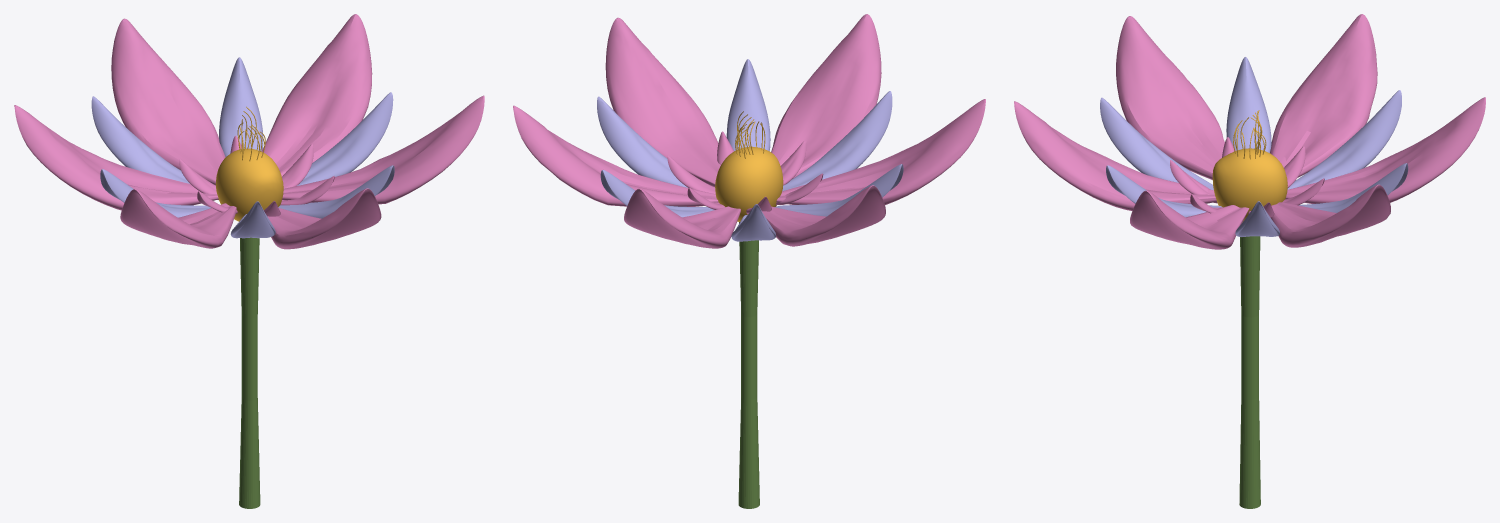
The model's file is flower3.fbx.
The picture shows the model from 3 angles, left to right: view 1: azimuth 30°, elevation 25°; view 2: azimuth 150°, elevation 25°; view 3: azimuth 270°, elevation 25°; orthographic projection.
Parts seen in each view (by area): view 1: Plant_Petals, Plant_green, Plant_bulb, Plantybit; view 2: Plant_Petals, Plant_green, Plant_bulb, Plantybit; view 3: Plant_Petals, Plant_green, Plant_bulb, Plantybit.
Boxes of the visible parts, bbox=[...] form: Plant_Petals: bbox=[14, 14, 484, 249]; Plant_green: bbox=[239, 237, 260, 508]; Plant_bulb: bbox=[215, 148, 283, 221]; Plantybit: bbox=[237, 107, 265, 161]; Plant_Petals: bbox=[513, 14, 985, 248]; Plant_green: bbox=[738, 222, 759, 508]; Plant_bulb: bbox=[715, 146, 783, 221]; Plantybit: bbox=[735, 111, 765, 158]; Plant_Petals: bbox=[1014, 14, 1485, 249]; Plant_green: bbox=[1239, 236, 1260, 508]; Plant_bulb: bbox=[1212, 148, 1287, 221]; Plantybit: bbox=[1233, 110, 1266, 159].
Bounding box in the file's own units: 948 × 991 × 1052.
